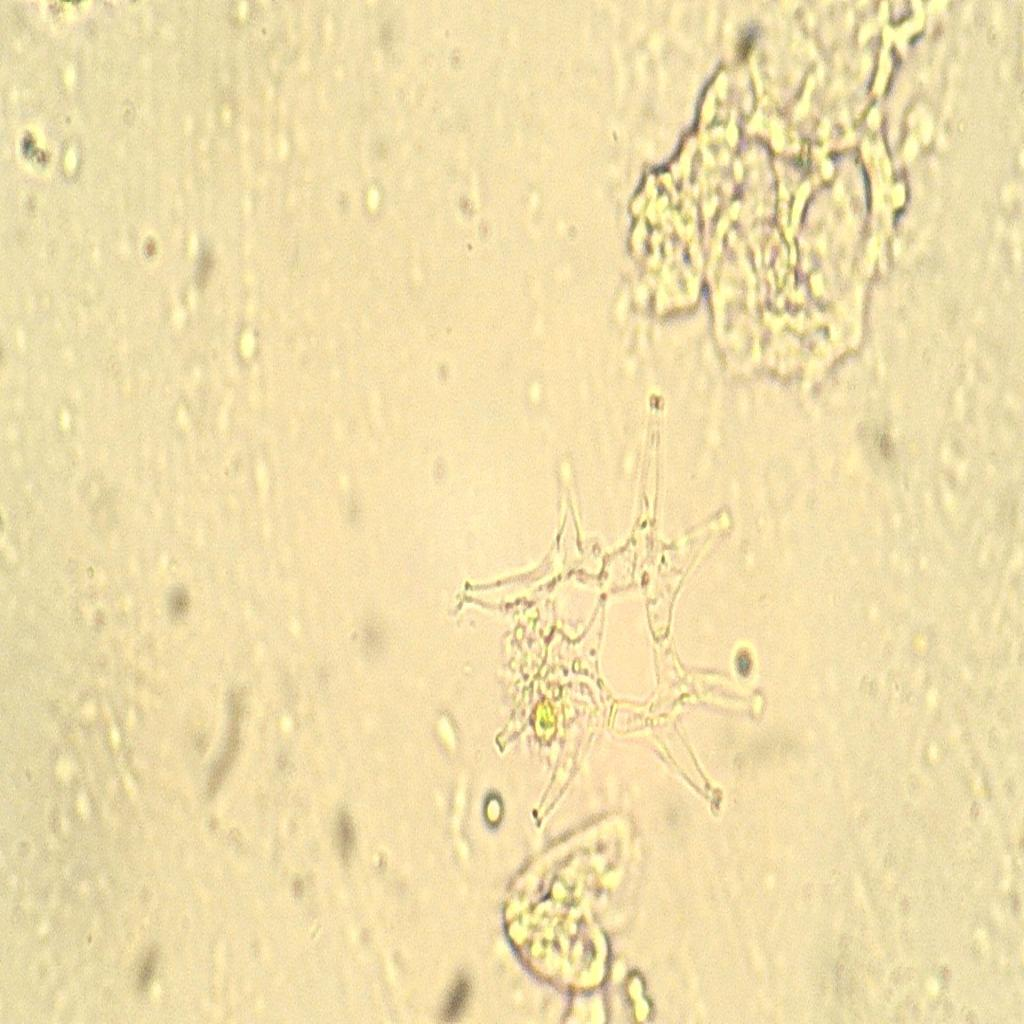Pediastrum_75TH: (447, 378, 785, 876)
